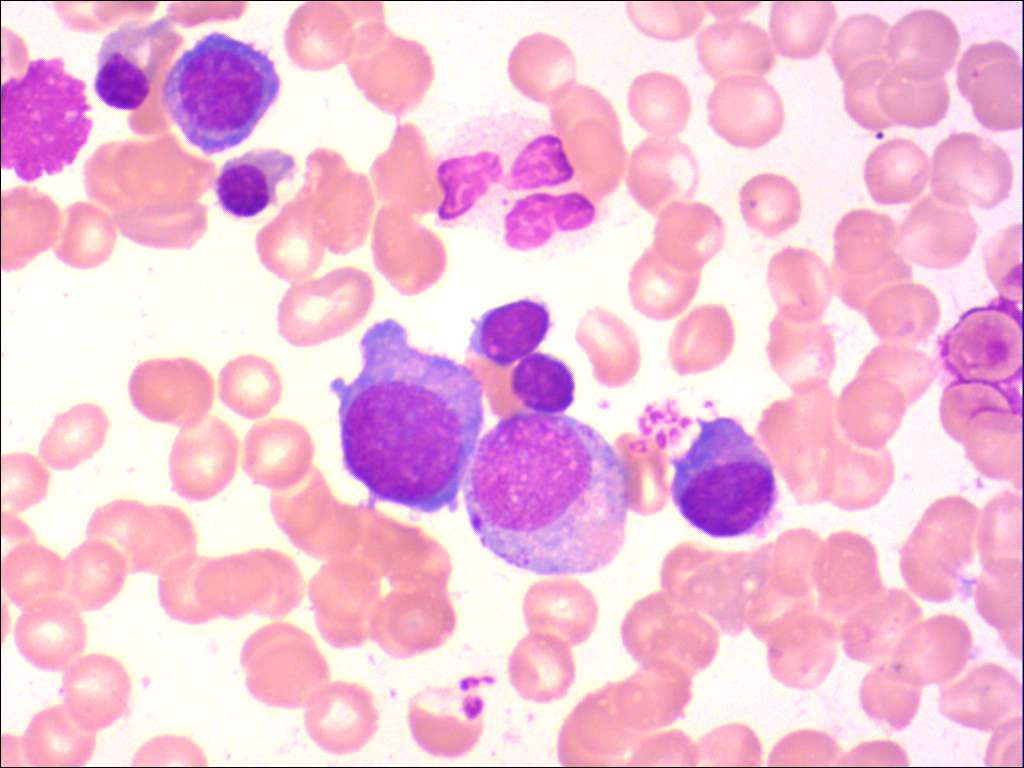22: (160, 29, 283, 159)
24: (90, 13, 188, 114), (212, 144, 301, 222)
3: (459, 411, 631, 581)
32: (464, 291, 558, 370), (507, 349, 578, 417)
51: (326, 315, 490, 523), (665, 412, 782, 543)
6: (427, 105, 614, 259)
x: (1, 56, 95, 185)
